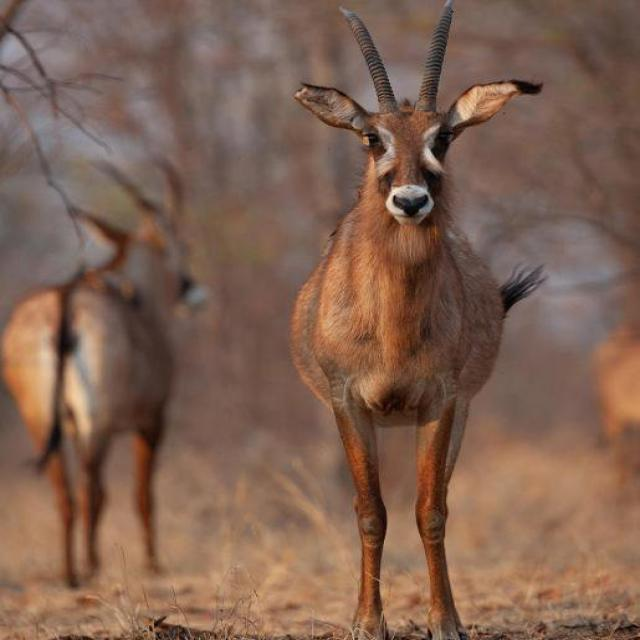Antelope: (287, 3, 556, 639), (3, 144, 215, 602)
